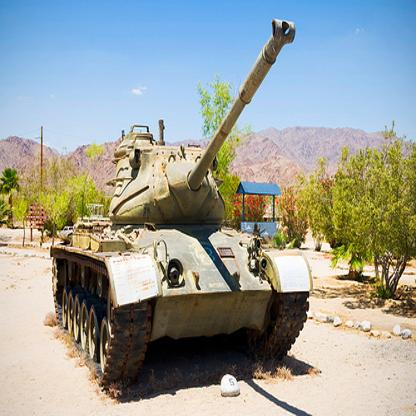Tank: (49, 13, 318, 393)
